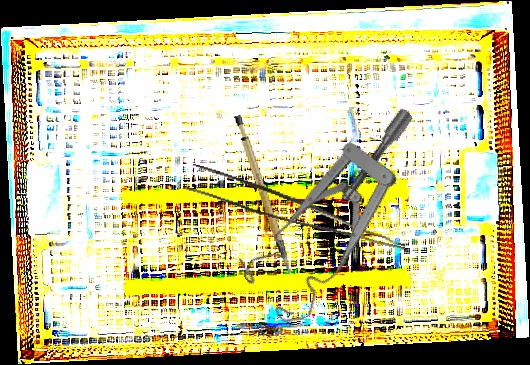Scalpel Handle: (232, 110, 293, 282)
Speculum: (211, 106, 473, 334)
Tissue Forceps: (184, 163, 413, 251)
